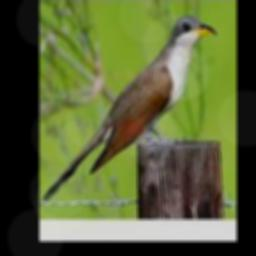Cuckoo: (44, 14, 216, 201)
